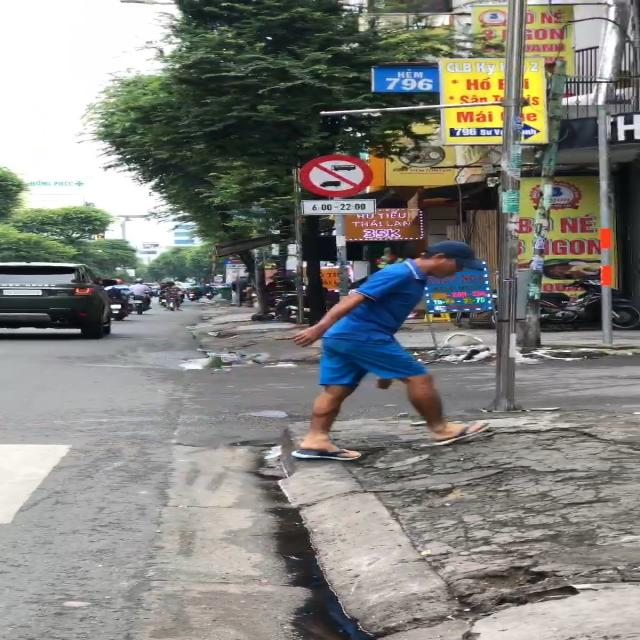Bien bao cam xe oto khach va xe oto tai: (295, 150, 378, 198)
